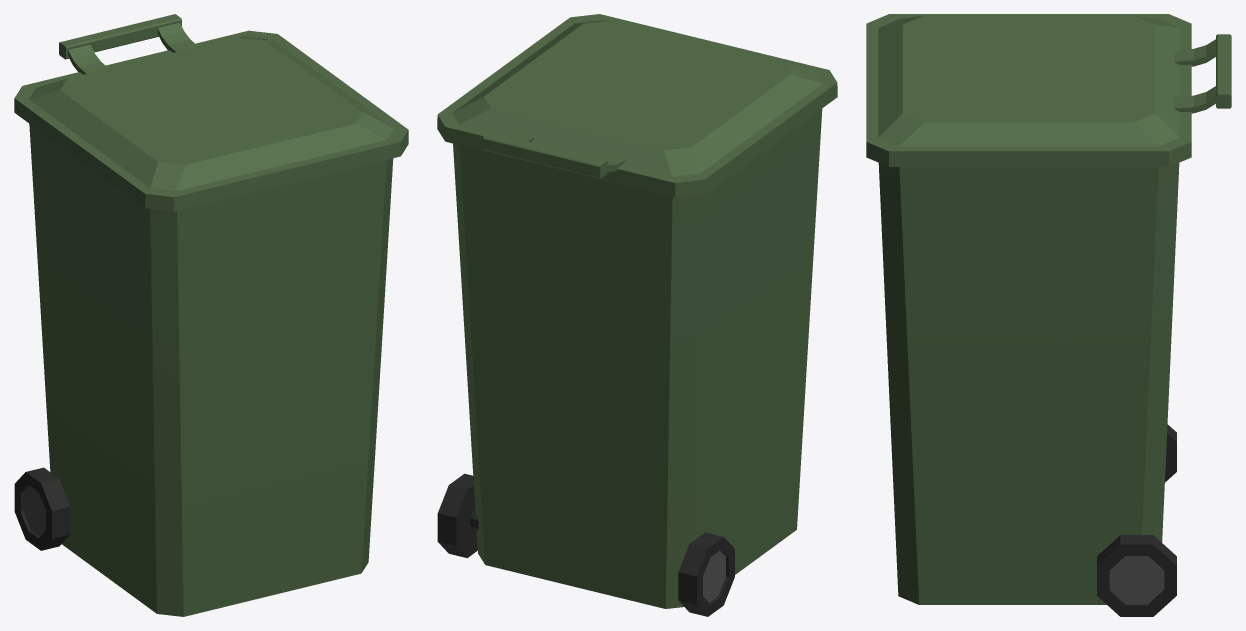
File: SM_Props_Trash_04.glb
3 views of the same model, side by side, from view 1: azimuth 30°, elevation 25°; view 2: azimuth 150°, elevation 25°; view 3: azimuth 270°, elevation 25° (orthographic). The views are drawn at different scales.
Visible parts, largest first — view 1: SM_Props_Trash_04; view 2: SM_Props_Trash_04; view 3: SM_Props_Trash_04.
Part boxes in pixels (left/top/right/bottom): SM_Props_Trash_04: left=14, top=14, right=408, bottom=616; SM_Props_Trash_04: left=437, top=14, right=837, bottom=616; SM_Props_Trash_04: left=866, top=14, right=1231, bottom=616.
Size of the model in its own units: 0.7173 by 1.18 by 0.8053.
1 material, 1 textured.
